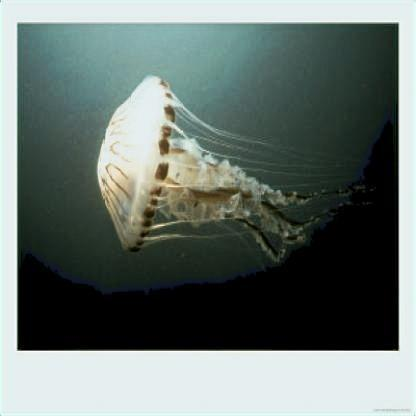Mosaic: (95, 72, 389, 254)
